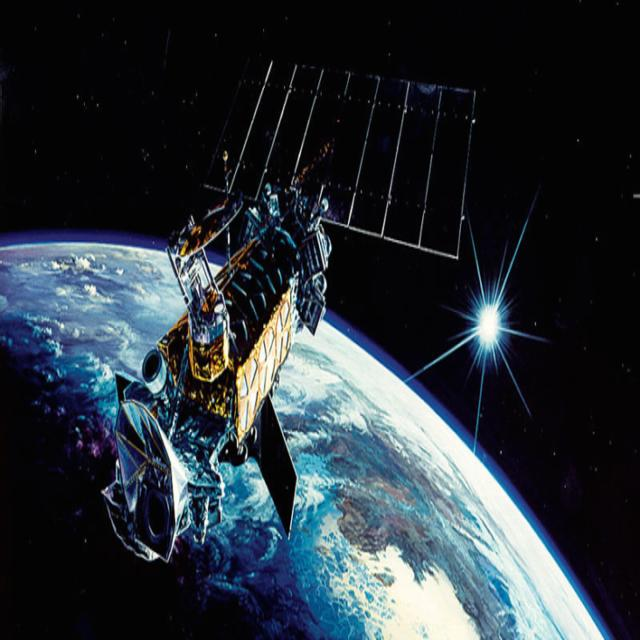medium_debris: (92, 40, 485, 591)
